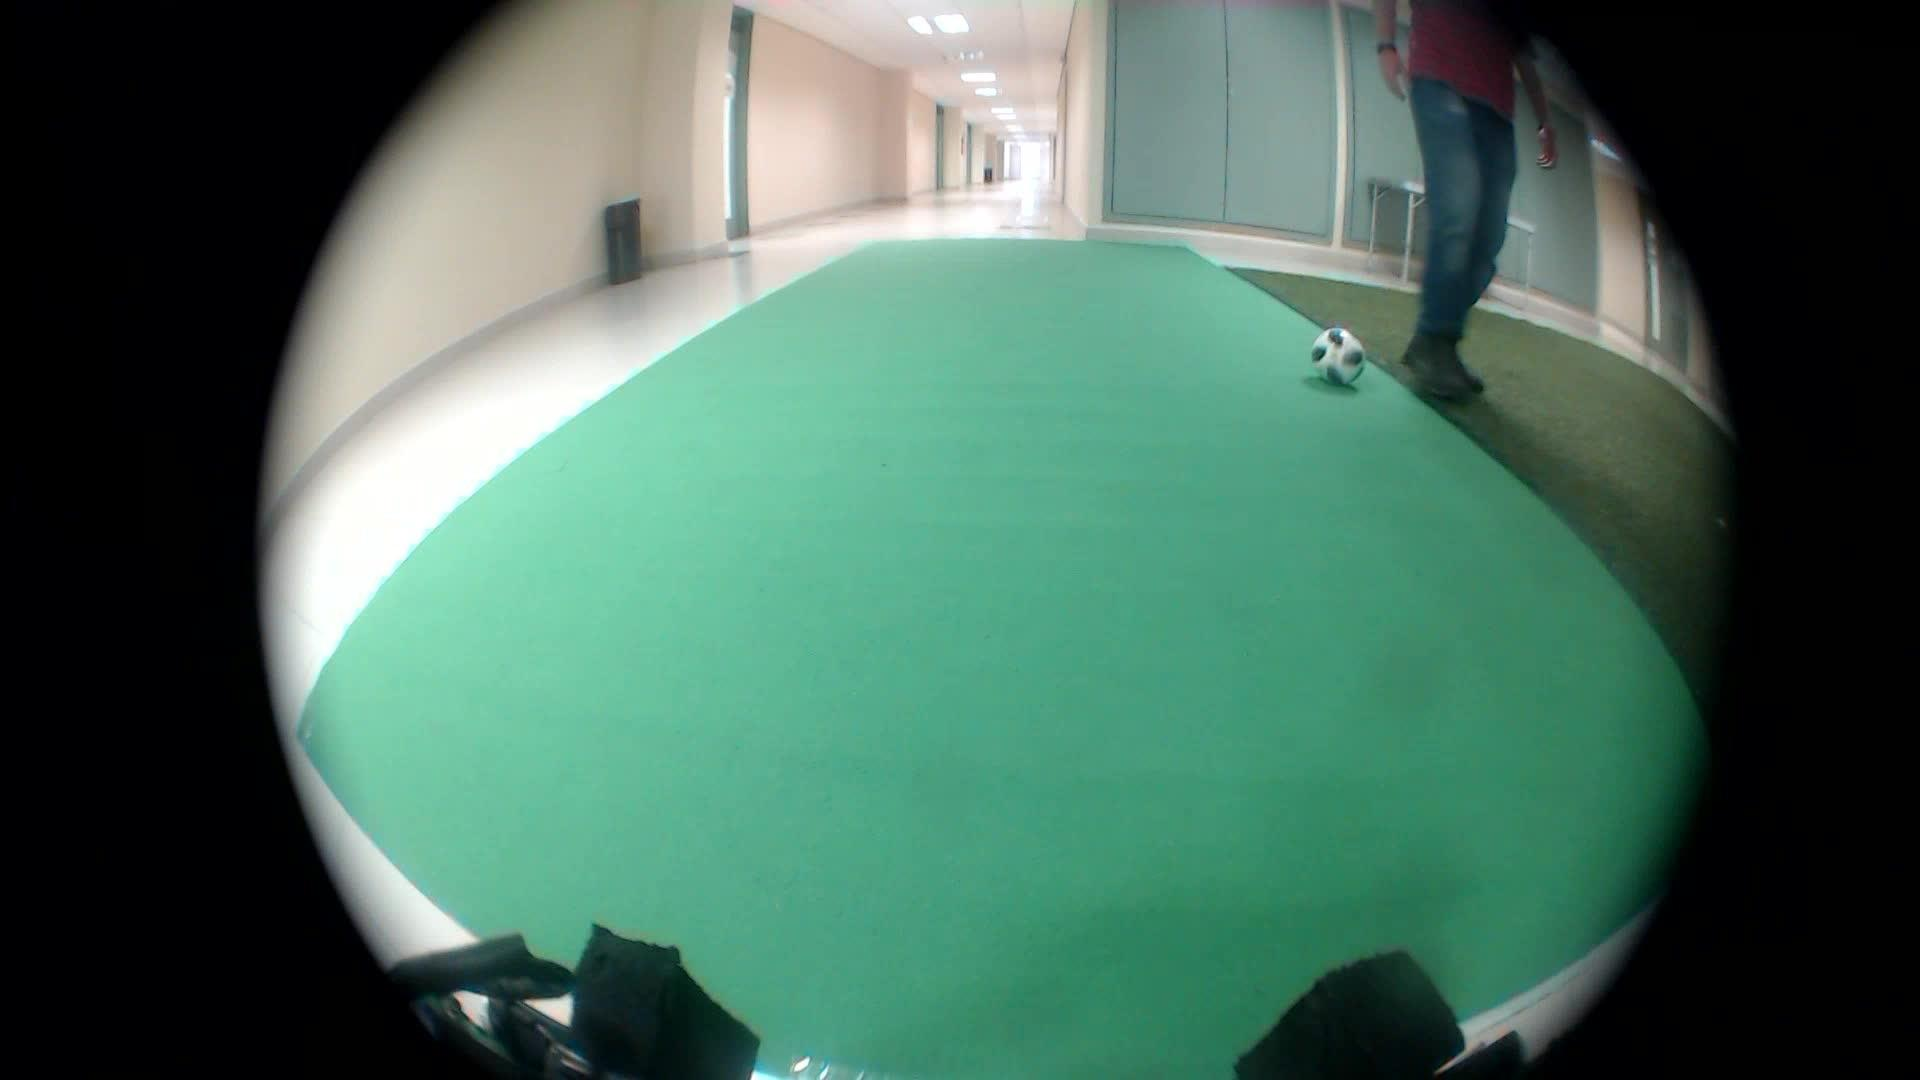ball: (1291, 319, 1369, 392)
